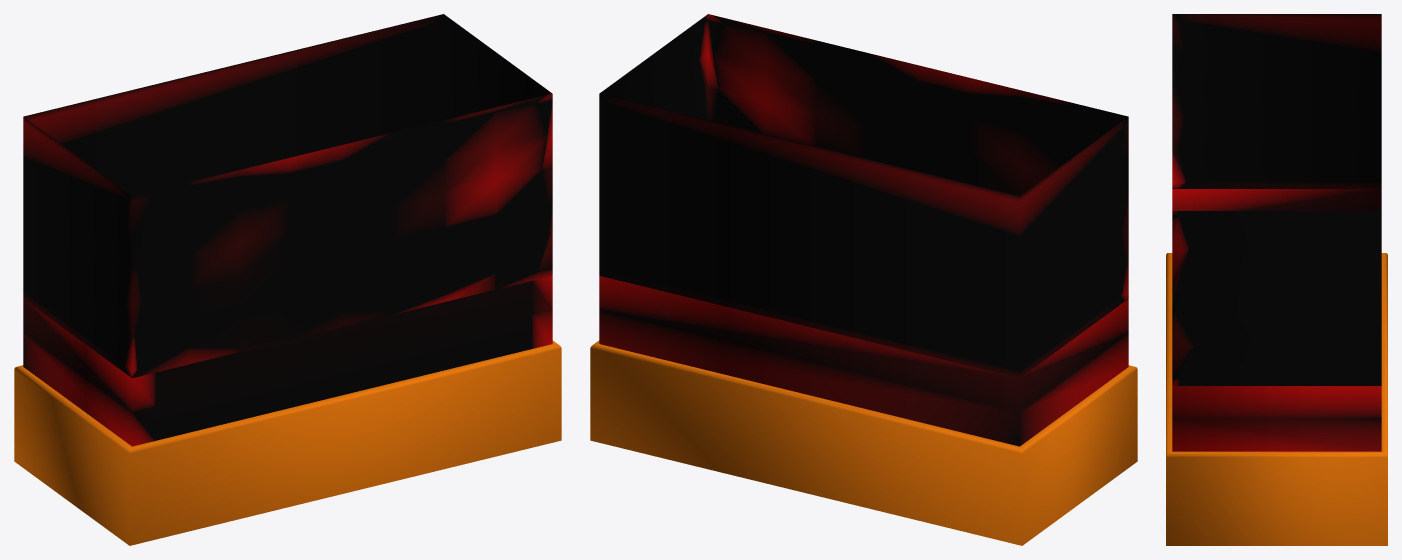
The model's file is House7_collisionSetup.fbx.
3 renders of one model, left to right at view 1: azimuth 30°, elevation 25°; view 2: azimuth 150°, elevation 25°; view 3: azimuth 270°, elevation 25°, orthographic. The views are drawn at different scales.
Parts seen in each view (by area): view 1: collisionCube.013, collisionConvex.206; view 2: collisionCube.013, collisionConvex.206; view 3: collisionCube.013, collisionConvex.206.
Boxes of the visible parts, box(x1,y1,x2,y2) form: collisionCube.013: box(23, 14, 552, 446); collisionConvex.206: box(14, 340, 561, 545); collisionCube.013: box(599, 14, 1128, 446); collisionConvex.206: box(590, 340, 1137, 545); collisionCube.013: box(1172, 14, 1381, 451); collisionConvex.206: box(1166, 253, 1387, 545).
Bounding box in the file's own units: 1490 × 1140 × 690.
